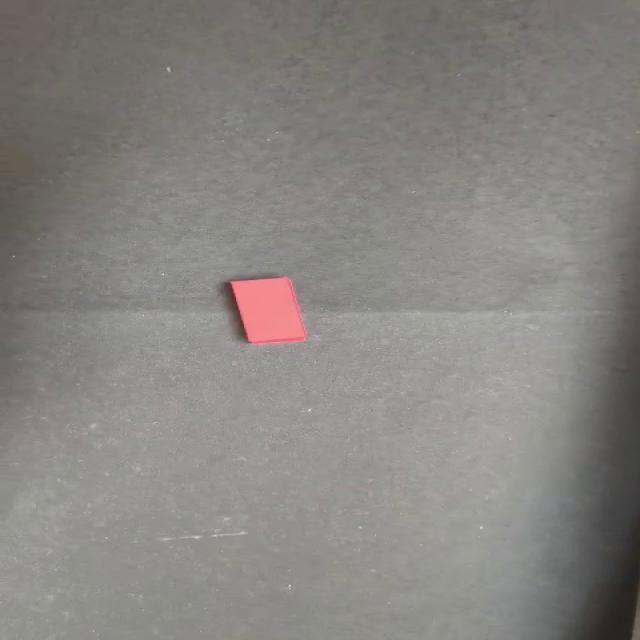red block: (226, 276, 306, 344)
